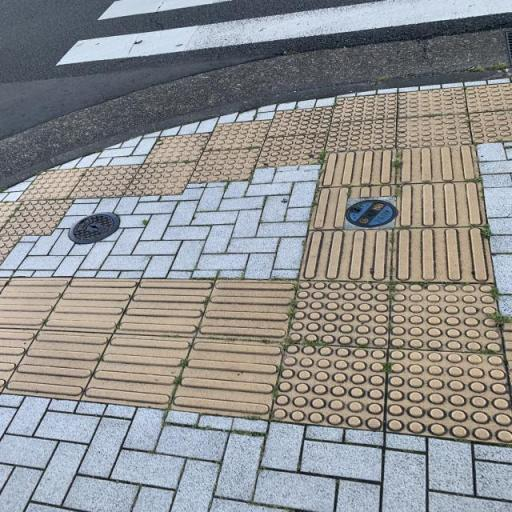dot: (388, 349, 511, 444), (269, 342, 387, 430), (390, 281, 504, 352), (286, 280, 390, 347)
line: (168, 337, 287, 421), (78, 332, 194, 409), (2, 327, 112, 401), (194, 278, 297, 341), (112, 278, 216, 338), (391, 226, 496, 282), (40, 278, 142, 333), (298, 229, 393, 281)
